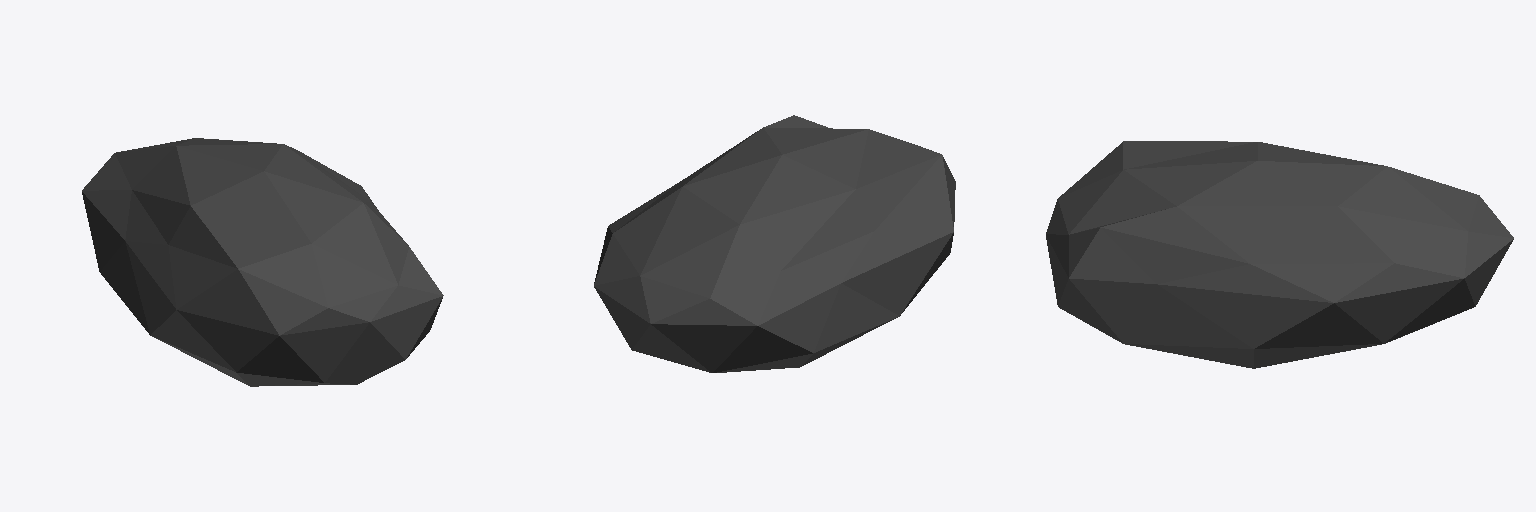
Rendered from Rock2.obj.
3 renders of one model, left to right at view 1: azimuth 30°, elevation 25°; view 2: azimuth 150°, elevation 25°; view 3: azimuth 270°, elevation 25°, orthographic.
Visible parts, largest first — view 1: Icosphere; view 2: Icosphere; view 3: Icosphere.
Part boxes in pixels (bbox=[...]): Icosphere: bbox=[82, 138, 443, 386]; Icosphere: bbox=[594, 115, 955, 372]; Icosphere: bbox=[1046, 141, 1513, 368].
Size of the model in its own units: 3.65 by 2.46 by 5.59.